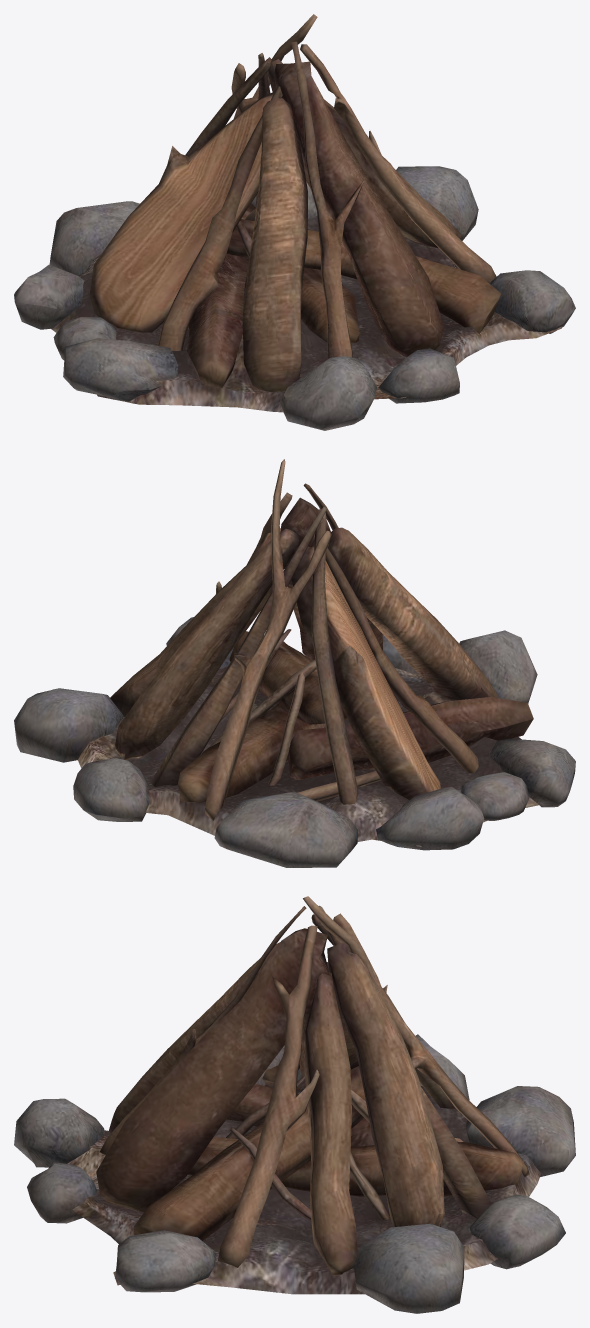
File: Campfire.fbx
The picture shows the model from 3 angles, top to bottom: view 1: azimuth 30°, elevation 25°; view 2: azimuth 150°, elevation 25°; view 3: azimuth 270°, elevation 25°; orthographic projection. The views are drawn at different scales.
Visible parts, largest first — view 1: Campfire; view 2: Campfire; view 3: Campfire.
Part boxes in pixels (box(x1,y1,x2,y2)): Campfire: box(14, 14, 575, 430); Campfire: box(14, 459, 575, 867); Campfire: box(14, 896, 575, 1313).
Size of the model in its own units: 38.58 by 23.67 by 37.03.
Materials: 1 (1 with a texture image).
